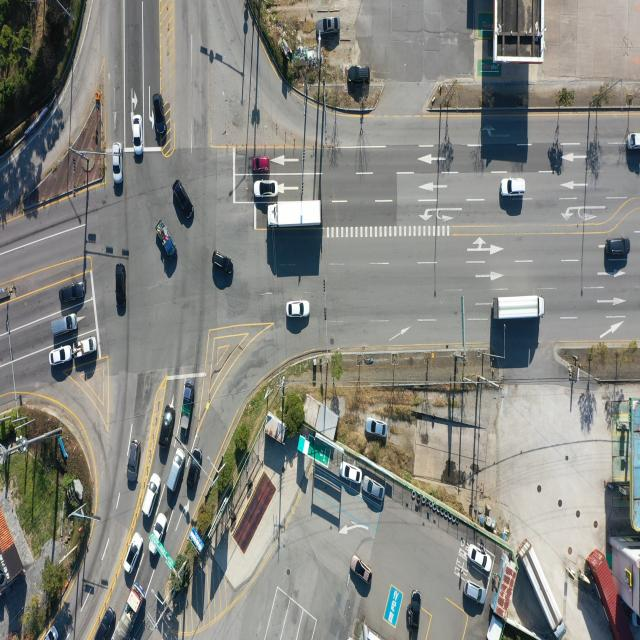car: (147, 509, 167, 556), (176, 181, 197, 222), (141, 474, 160, 518), (125, 532, 144, 574), (168, 448, 185, 494), (158, 407, 174, 453), (96, 603, 115, 640), (117, 264, 130, 318), (152, 93, 166, 140), (188, 451, 204, 492), (350, 556, 372, 585), (128, 441, 141, 487), (52, 316, 77, 339), (60, 282, 86, 304), (470, 547, 492, 573), (316, 17, 340, 40), (364, 478, 386, 503), (463, 581, 485, 605), (214, 252, 234, 278), (52, 345, 75, 367), (410, 590, 422, 632), (605, 237, 630, 257), (500, 180, 525, 200), (341, 462, 363, 484), (112, 143, 123, 185), (364, 418, 387, 438), (253, 179, 277, 198), (286, 302, 309, 319), (133, 114, 143, 153), (350, 65, 370, 83), (250, 158, 270, 174), (42, 624, 59, 640)
medium_truck: (520, 537, 568, 637), (114, 582, 146, 640), (267, 201, 322, 230), (498, 293, 547, 320)
small_truck: (180, 378, 194, 441), (162, 221, 178, 258), (75, 338, 97, 358), (627, 134, 640, 150)
